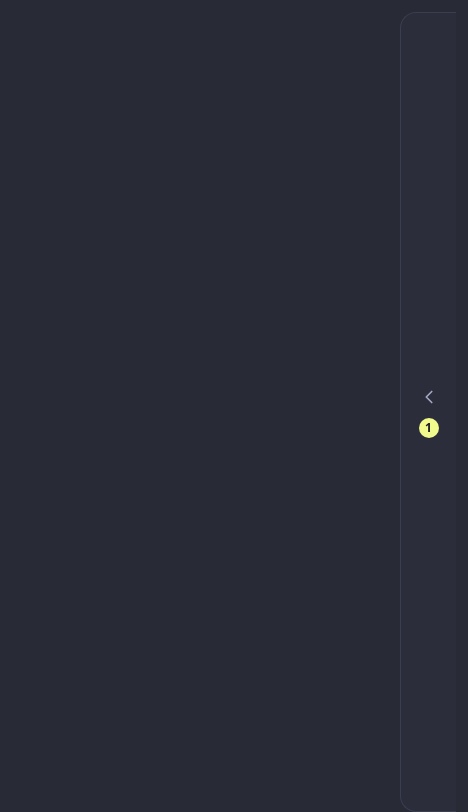
the collapsed tab counts sessions that need the user and the panel opens on click
expect the text with class "wgd-pip" reads "1": met, box [425,419,432,436]
What coordinates should you click on to do the following:
click the button named "Open CC Hub widget"
I would click on:
 (428, 412)
Its box is [400,12,456,811].
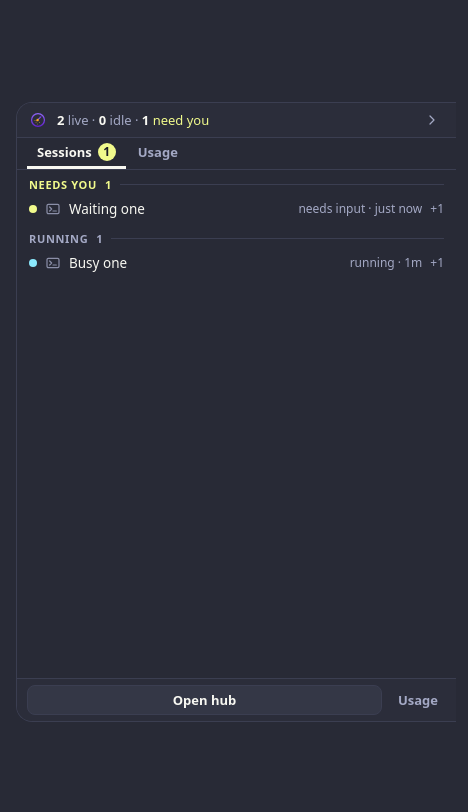
expect the button named "Collapse widget" is shown: met, box [418,108,446,132]
expect the element with class "wgd-state" reads "2 live · 0 idle · 1 need you": met, box [57,111,209,129]
expect the text "Waiting one" is shown: met, box [69,200,145,218]
